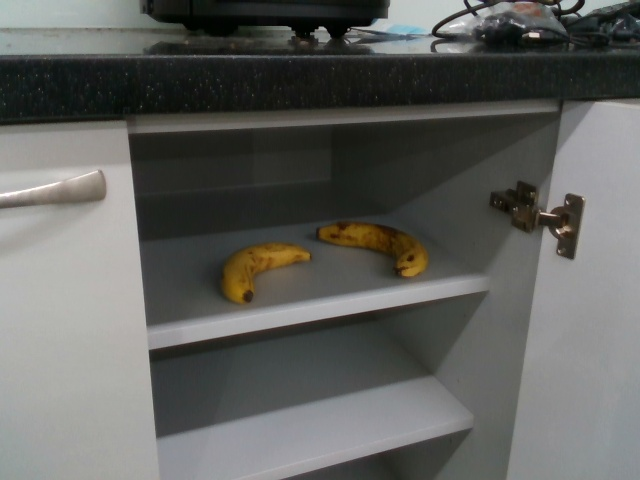banana: (315, 221, 430, 281), (221, 241, 312, 304)
